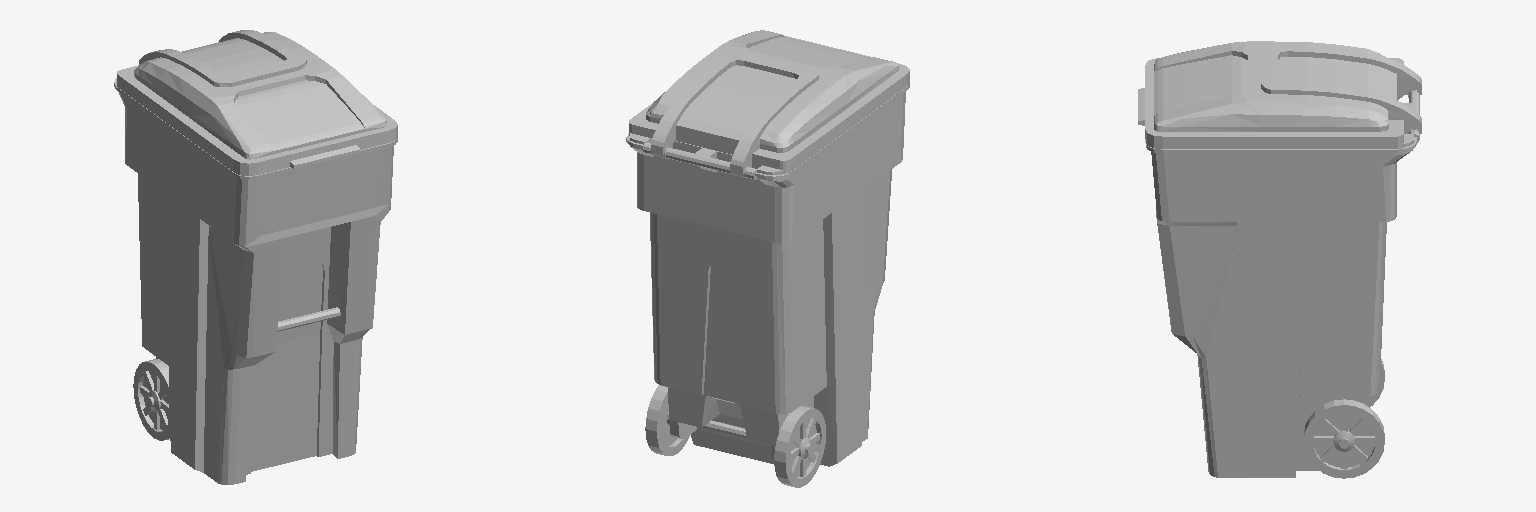
File: trash.obj
3 views of the same model, side by side, from view 1: azimuth 30°, elevation 25°; view 2: azimuth 150°, elevation 25°; view 3: azimuth 270°, elevation 25° (orthographic).
Bounding box in the file's own units: 19.98 × 44.69 × 30.61.